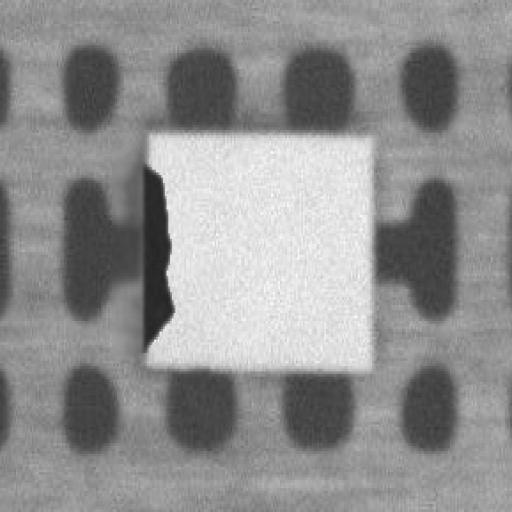DIE_BROKEN: (136, 149, 174, 350)
